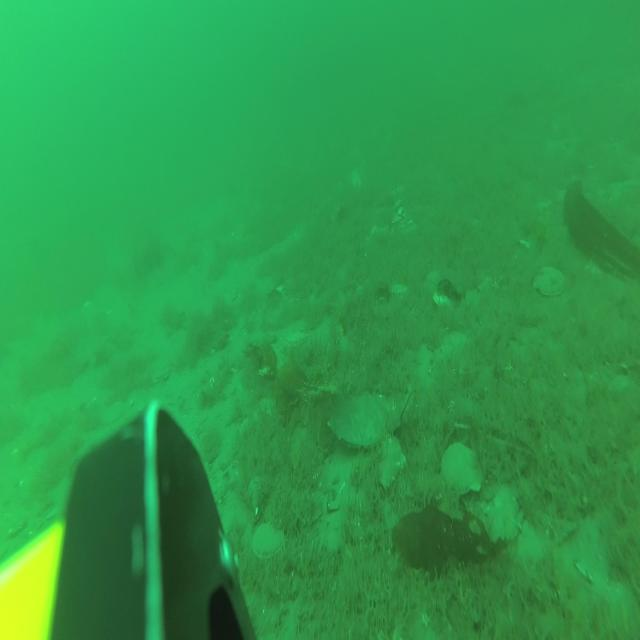scallop: (442, 441, 481, 497), (374, 436, 404, 490), (533, 264, 566, 298), (254, 521, 284, 558), (286, 330, 308, 349), (434, 289, 454, 309)
